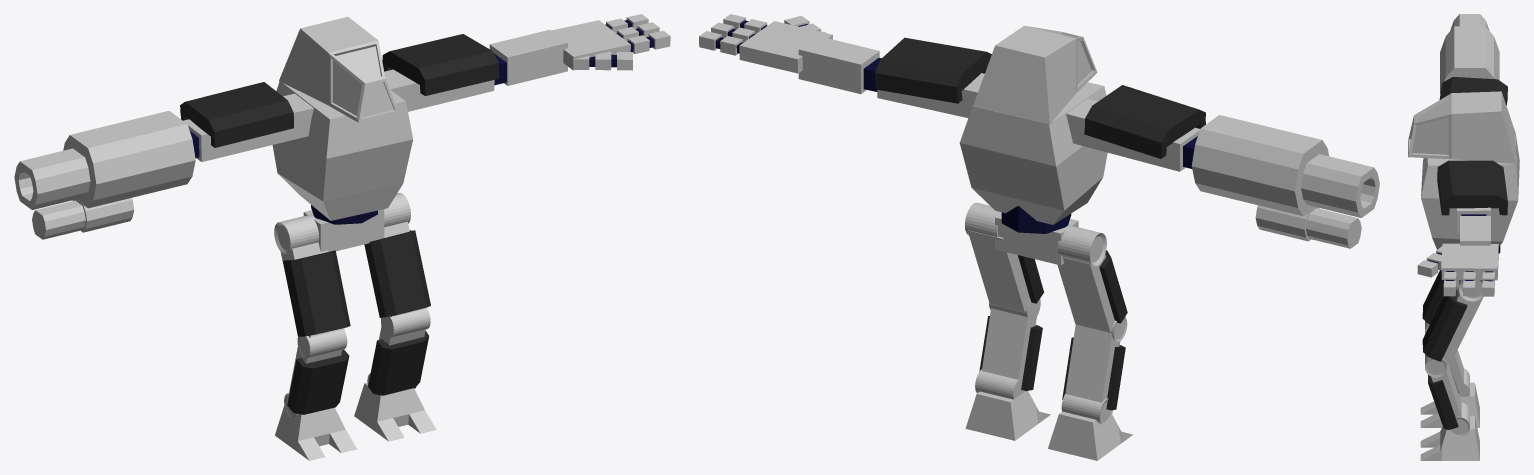
The model's file is NormalMechWithTextures.fbx.
The picture shows the model from 3 angles, left to right: view 1: azimuth 30°, elevation 25°; view 2: azimuth 150°, elevation 25°; view 3: azimuth 270°, elevation 25°; orthographic projection. The views are drawn at different scales.
Visible parts, largest first — view 1: Mech; view 2: Mech; view 3: Mech.
Part boxes in pixels (x1,y1,x2,y2): Mech: (14, 14, 670, 460); Mech: (699, 14, 1379, 460); Mech: (1408, 14, 1519, 460).
Bounding box in the file's own units: 2094 × 1234 × 376.
